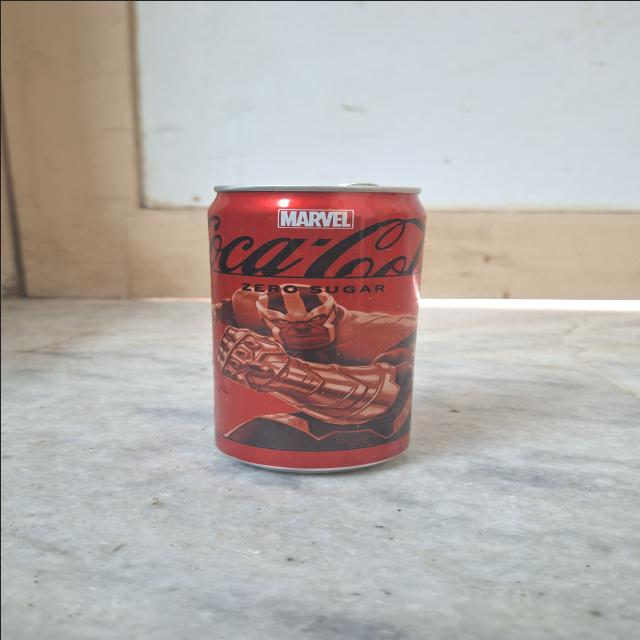Coca Cola Zero: (198, 188, 418, 468)
